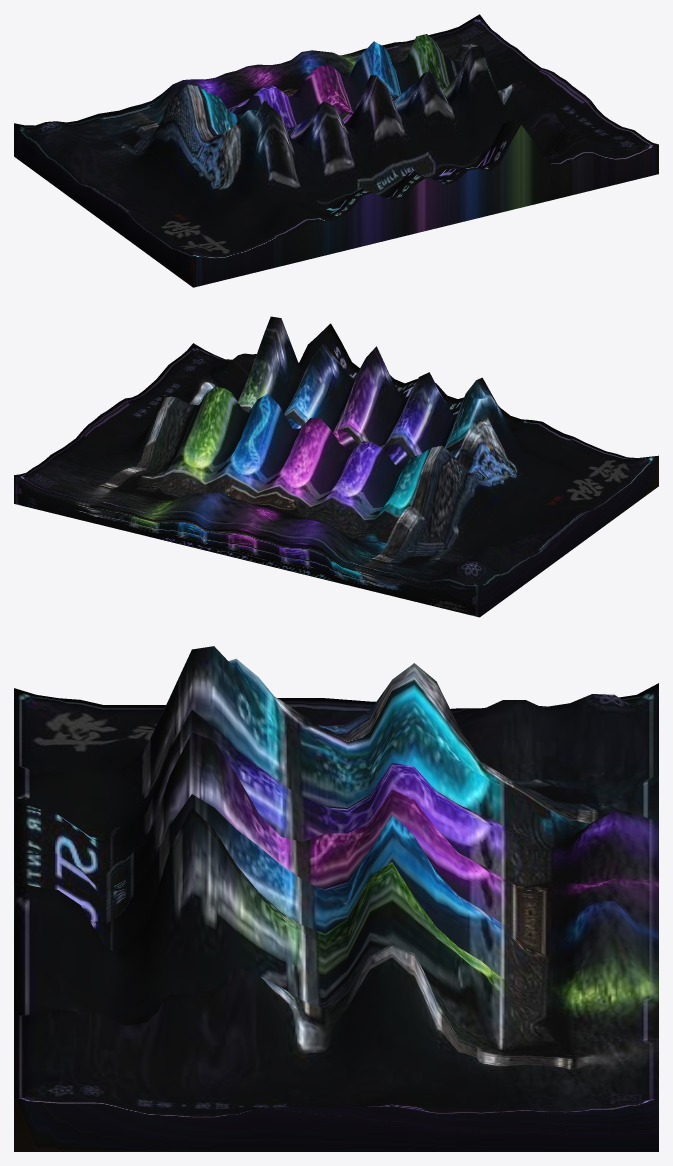
File: CAREER_13_Tool_02_Tubes.glb
The picture shows the model from 3 angles, top to bottom: view 1: azimuth 30°, elevation 25°; view 2: azimuth 150°, elevation 25°; view 3: azimuth 270°, elevation 25°; orthographic projection. The views are drawn at different scales.
Visible parts, largest first — view 1: CAREER_13_Tool_02_Tubes; view 2: CAREER_13_Tool_02_Tubes; view 3: CAREER_13_Tool_02_Tubes.
Part boxes in pixels (<box>): CAREER_13_Tool_02_Tubes: <box>14,14,658,287</box>; CAREER_13_Tool_02_Tubes: <box>14,316,658,617</box>; CAREER_13_Tool_02_Tubes: <box>14,646,658,1151</box>.
Bounding box in the file's own units: 2 × 0.51 × 1.33.
Materials: 1 (1 with a texture image).
